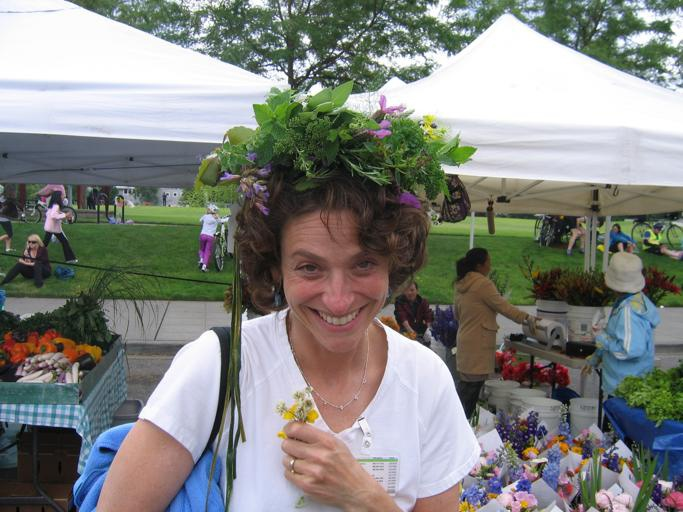non-vehicle: (629, 214, 683, 251), (22, 197, 77, 224), (213, 214, 233, 272)
